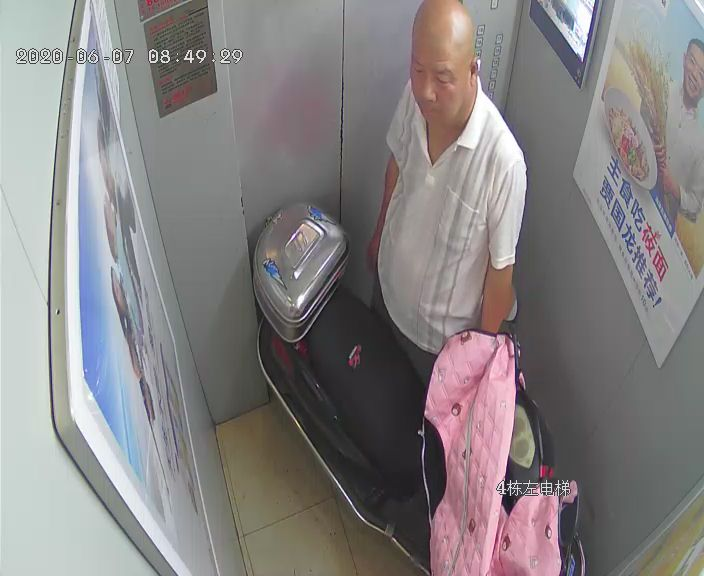Electric-bicycle: (252, 200, 585, 574)
